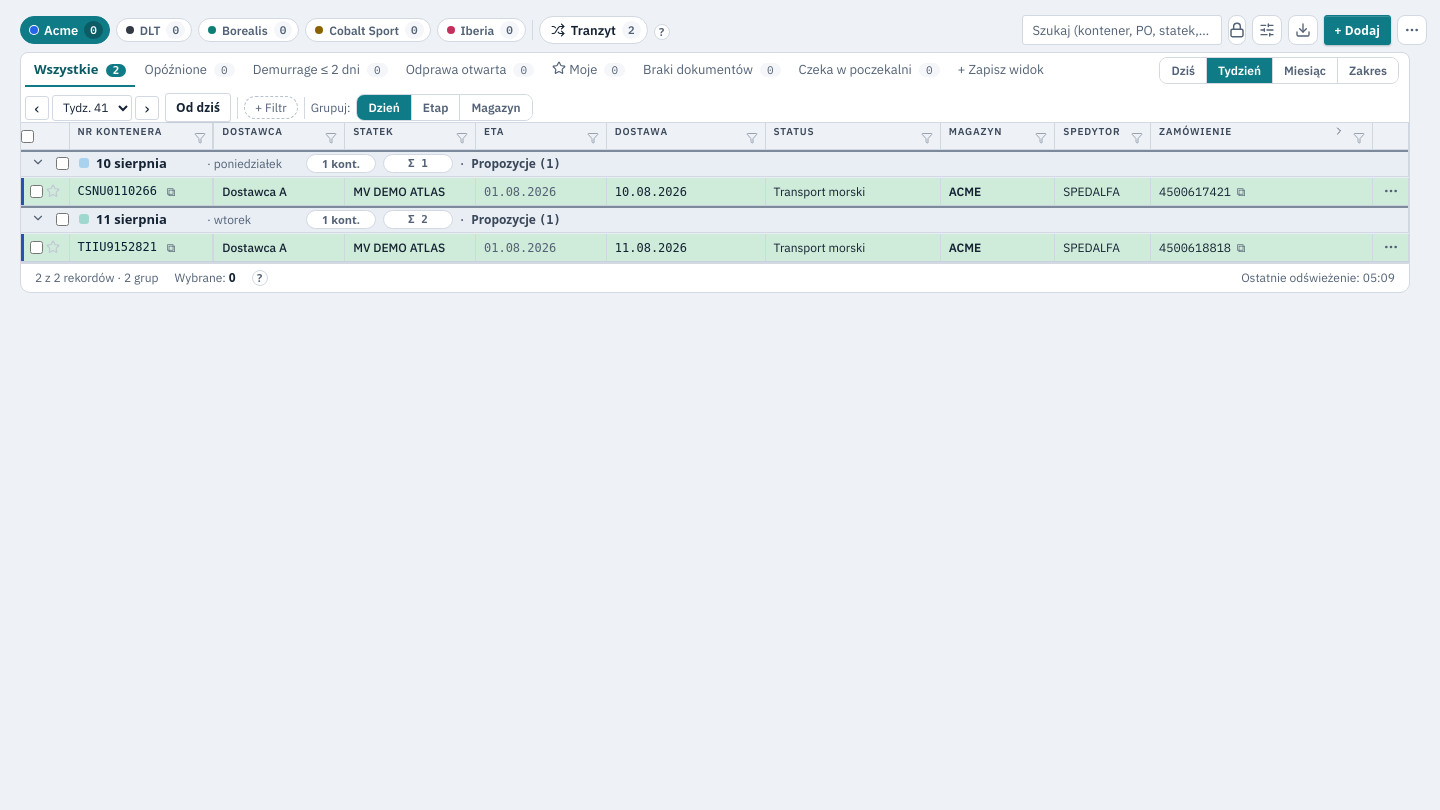
kolejka — porządki toolbara › przycisk „+ Dodaj" otwiera formularz (decyzja D3)
The width and height of the screenshot is (1440, 810).
expect the text "CSNU0110266" is shown: met, box [78,184,157,198]
Click the button "+ Dodaj" at (1357, 30), box [1324,15,1391,45]
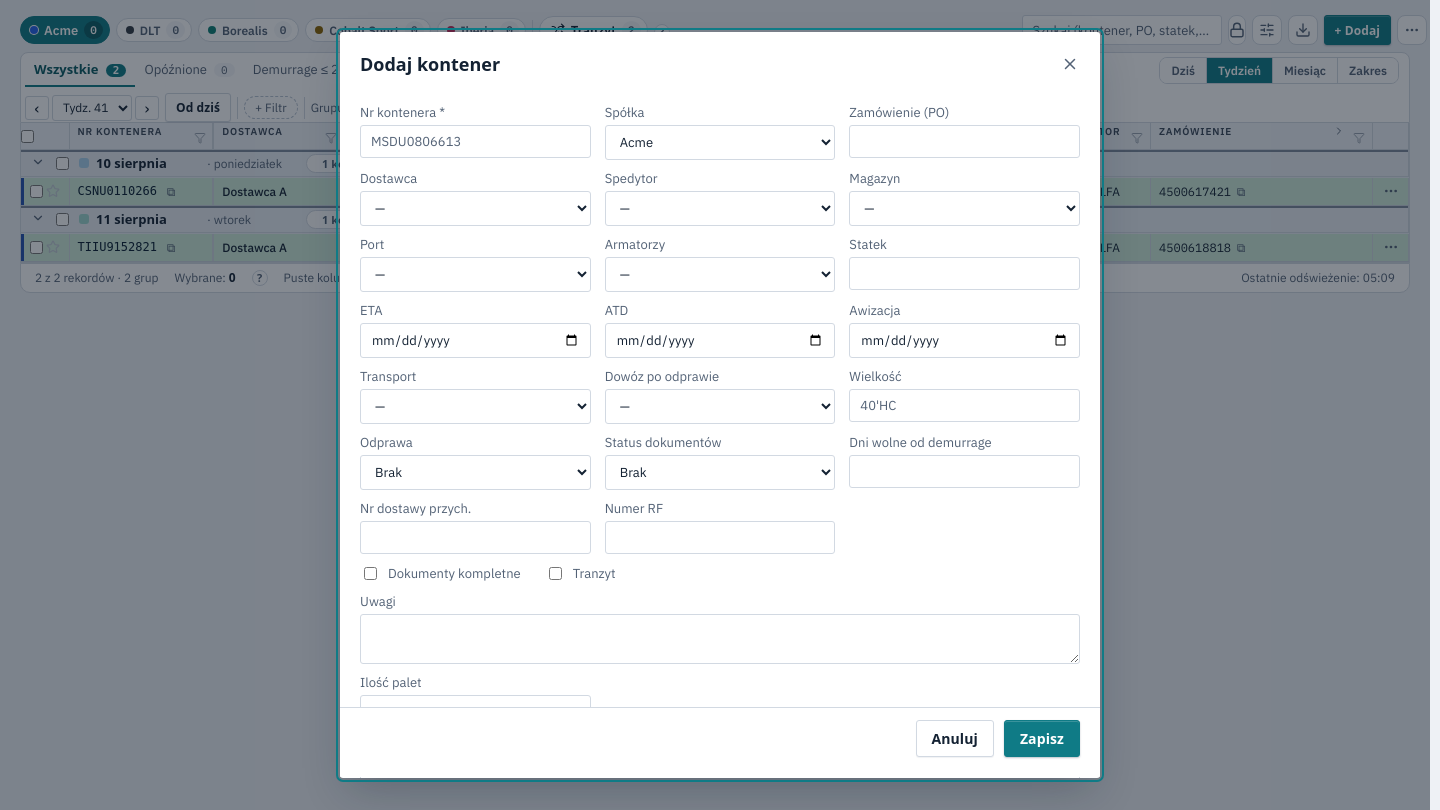
expect the dialog with class "modal" shows "Dodaj kontener": met, box [360,52,500,76]
